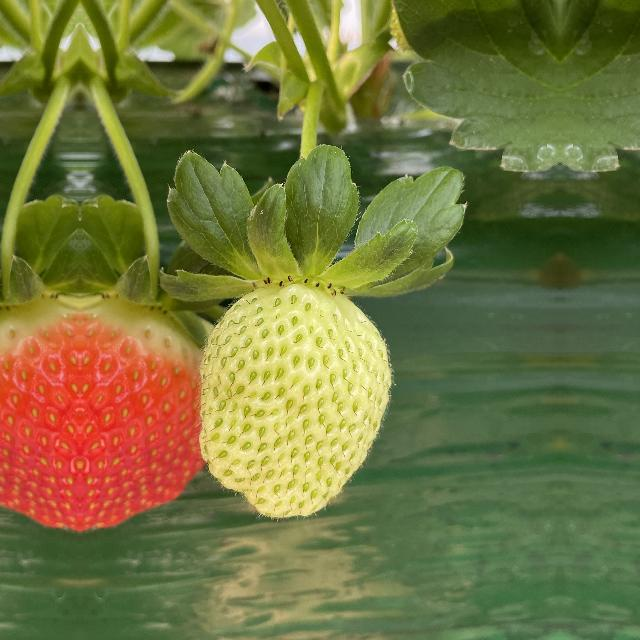Health_100: (80, 294, 212, 532), (0, 294, 80, 532)
Health_25: (195, 270, 401, 518)
